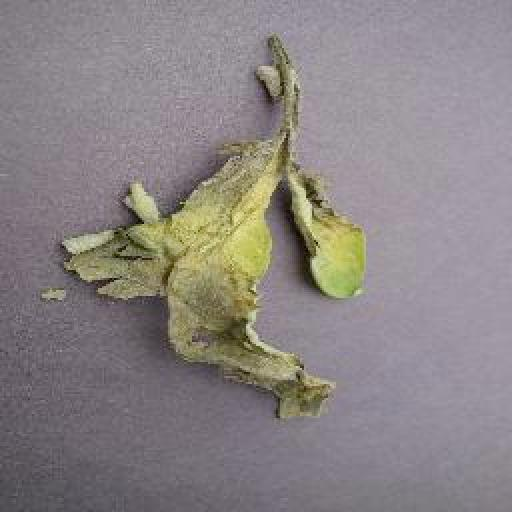disease_tomato: (58, 36, 368, 420)
